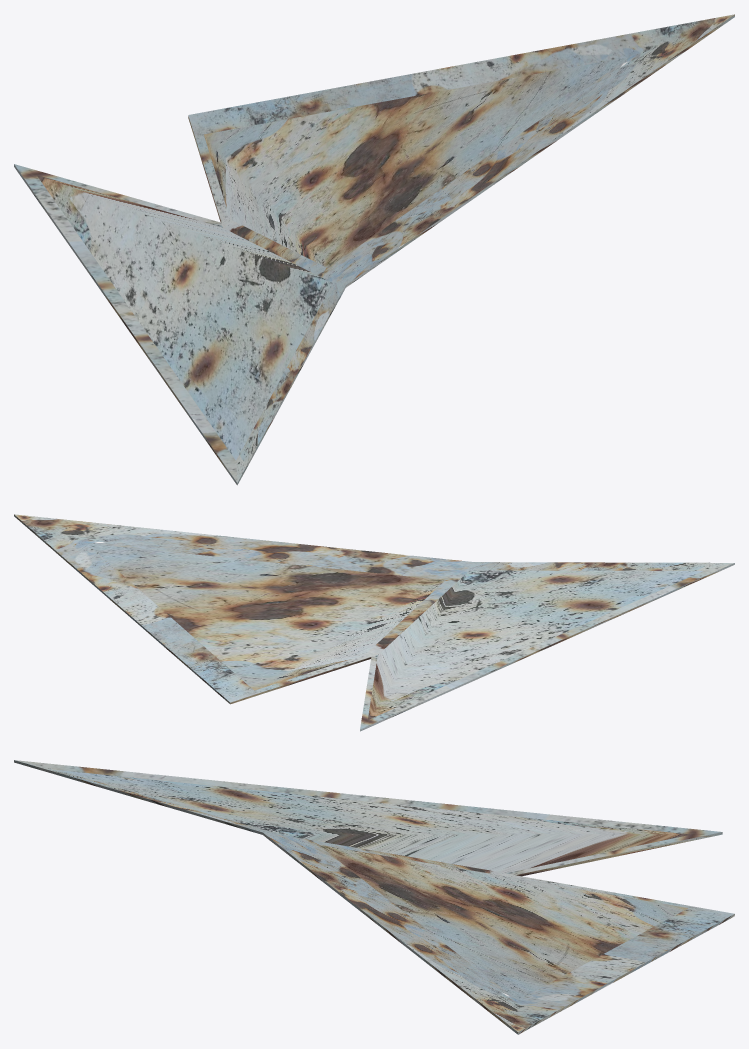
File: short iron scrap.fbx
3 renders of one model, top to bottom at view 1: azimuth 30°, elevation 25°; view 2: azimuth 150°, elevation 25°; view 3: azimuth 270°, elevation 25°, orthographic. The views are drawn at different scales.
Parts seen in each view (by area): view 1: short_iron_scrap; view 2: short_iron_scrap; view 3: short_iron_scrap.
Part boxes in pixels (bbox=[...]): short_iron_scrap: bbox=[14, 14, 734, 485]; short_iron_scrap: bbox=[14, 514, 734, 731]; short_iron_scrap: bbox=[14, 760, 734, 1034].
Size of the model in its own units: 52.65 by 5.51 by 46.12.
Materials: 1 (1 with a texture image).
